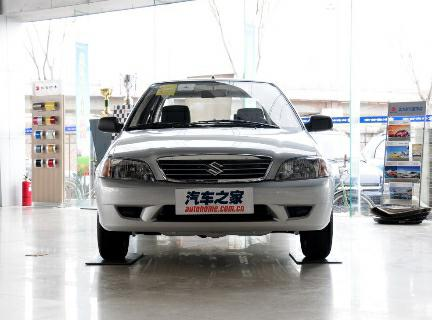铃木-羚羊: (86, 71, 338, 271)
